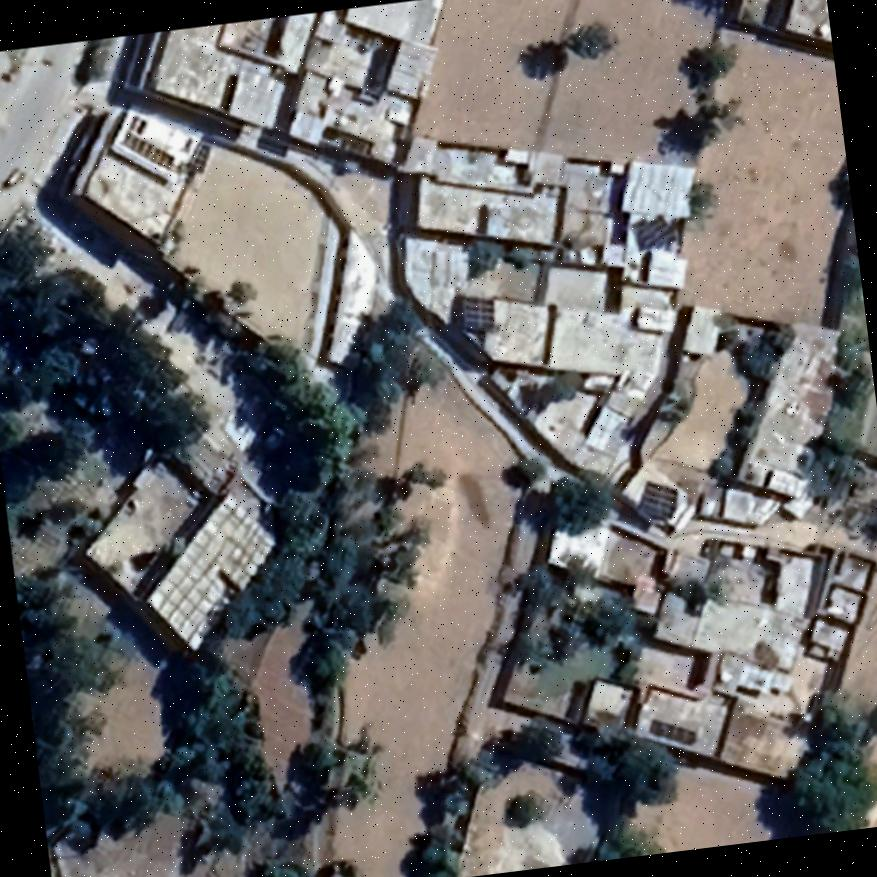Solarpanel: (629, 475, 686, 530), (454, 288, 501, 339), (638, 714, 700, 748)
